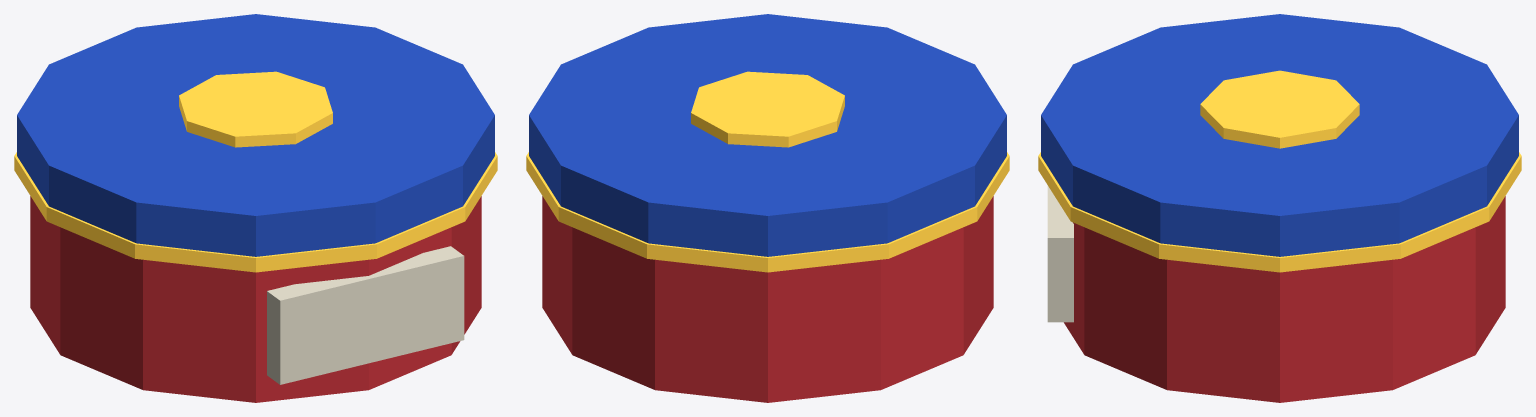
The model's file is cookie_tin.glb.
3 renders of one model, left to right at view 1: azimuth 30°, elevation 25°; view 2: azimuth 150°, elevation 25°; view 3: azimuth 270°, elevation 25°, orthographic.
Parts seen in each view (by area): view 1: tin_tin_lid, tin_tin, tin_label, tin_gold; view 2: tin_tin_lid, tin_tin, tin_gold; view 3: tin_tin_lid, tin_tin, tin_gold, tin_label.
Boxes of the visible parts, box(x1,y1,x2,y2) form: tin_tin_lid: box(17, 14, 494, 256); tin_tin: box(30, 196, 481, 402); tin_label: box(267, 246, 464, 384); tin_gold: box(14, 71, 497, 272); tin_tin_lid: box(529, 14, 1006, 256); tin_tin: box(542, 196, 993, 402); tin_gold: box(526, 71, 1009, 272); tin_tin_lid: box(1041, 14, 1518, 256); tin_tin: box(1064, 196, 1505, 402); tin_gold: box(1038, 70, 1521, 272); tin_label: box(1047, 185, 1073, 322).
Bounding box in the file's own units: 0.364 × 0.169 × 0.364.
